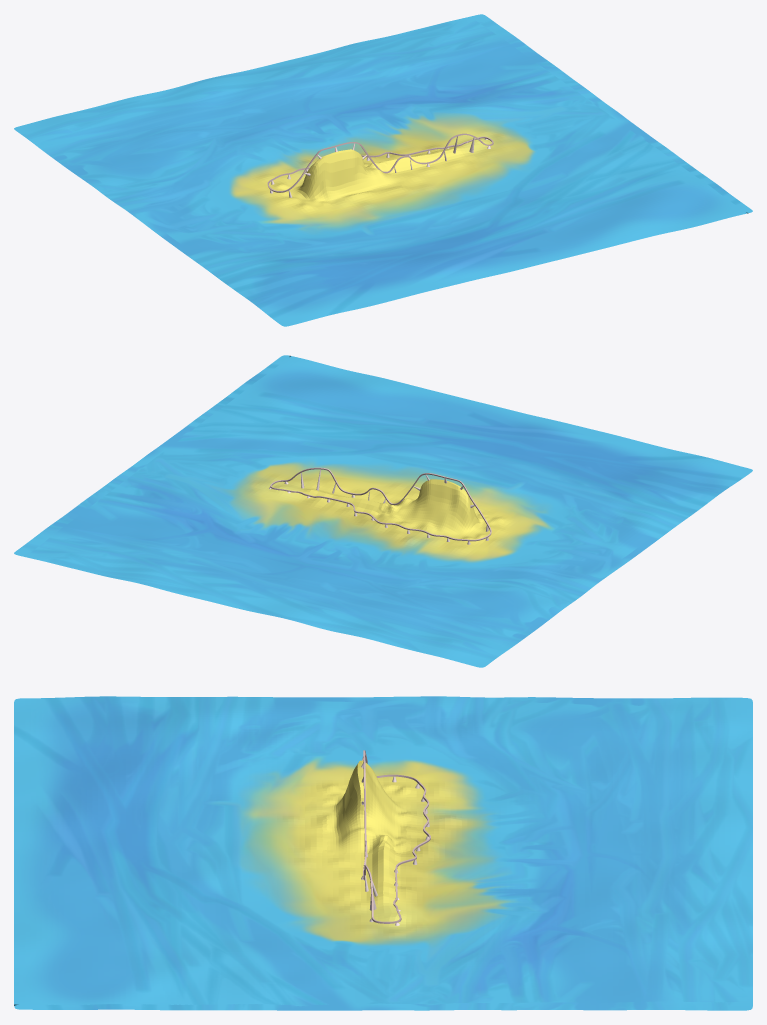
The model's file is IslandRollecoaster.fbx.
3 renders of one model, top to bottom at view 1: azimuth 30°, elevation 25°; view 2: azimuth 150°, elevation 25°; view 3: azimuth 270°, elevation 25°, orthographic. The views are drawn at different scales.
Parts seen in each view (by area): view 1: Plane, Cylinder; view 2: Plane, Cylinder; view 3: Plane, Cylinder.
Boxes of the visible parts, box(x1,y1,x2,y2) form: Plane: box(14, 14, 752, 326); Cylinder: box(267, 133, 493, 197); Plane: box(14, 355, 752, 667); Cylinder: box(269, 467, 491, 544); Plane: box(14, 696, 752, 1010); Cylinder: box(361, 750, 430, 925).
Size of the model in its own units: 21572 by 1946 by 21573.
2 materials, 2 textured.
